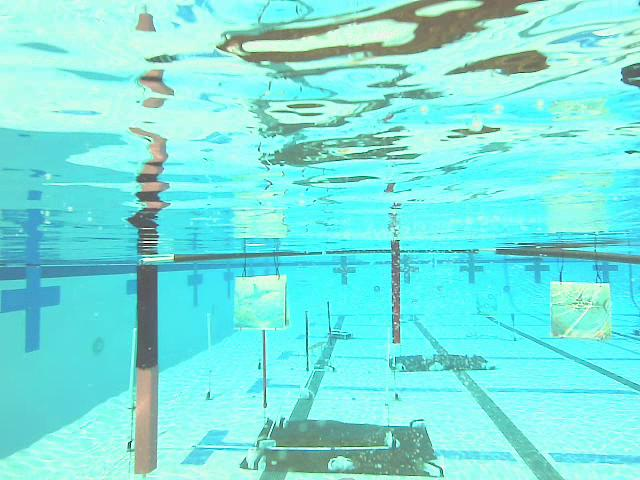black_poster: (306, 310, 310, 370), (327, 301, 332, 345)
divider: (392, 250, 399, 342)
left_gate_poster: (134, 266, 156, 474)
shark: (234, 277, 288, 328)
swordfish: (551, 283, 609, 338)
white_poster: (126, 328, 136, 462), (206, 314, 213, 399)
